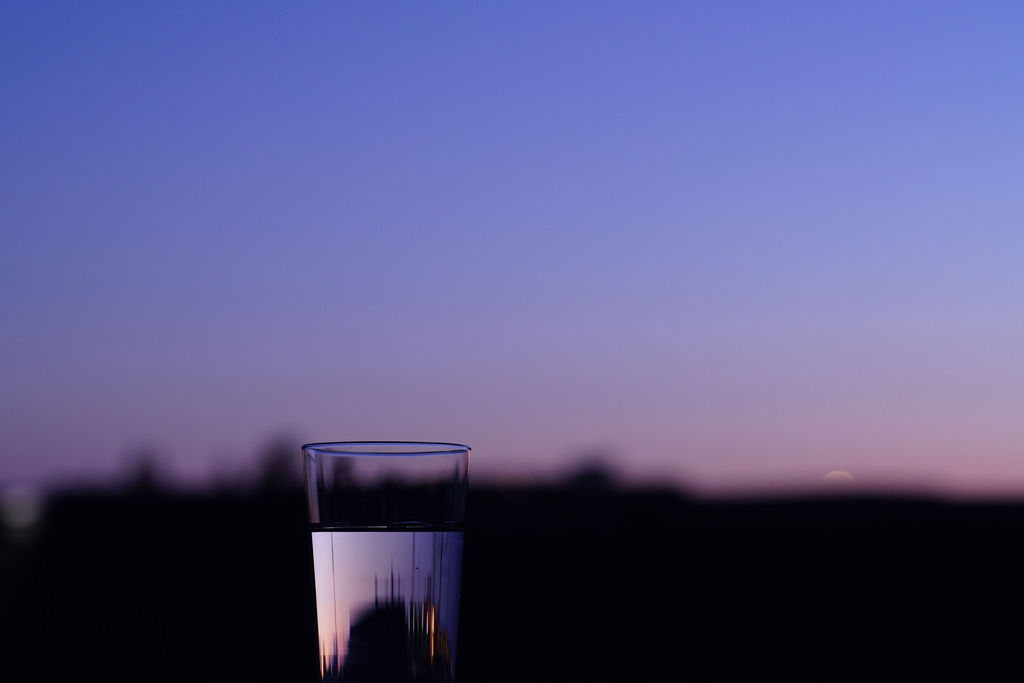glass of water: (290, 422, 484, 680)
